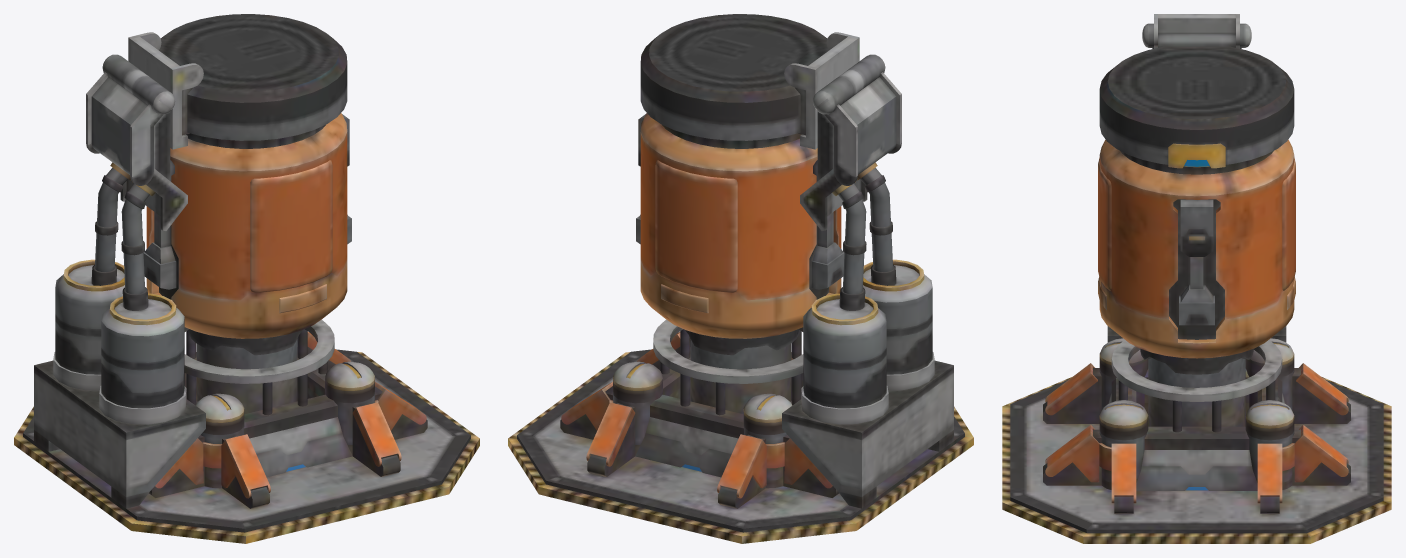
File: SK_OilDrillingRig_e749ae.glb
3 views of the same model, side by side, from view 1: azimuth 30°, elevation 25°; view 2: azimuth 150°, elevation 25°; view 3: azimuth 270°, elevation 25° (orthographic). The views are drawn at different scales.
Size of the model in its own units: 3.84 by 4.38 by 3.84.
Materials: 2 (2 with a texture image).
